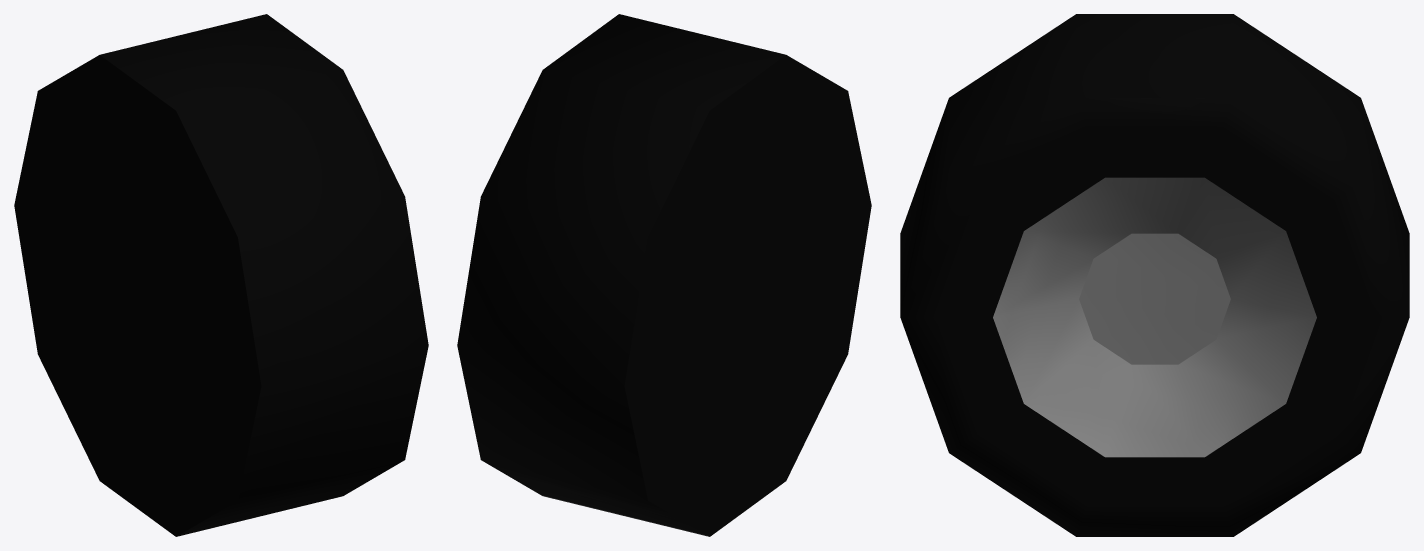
File: Whell_1.fbx
3 views of the same model, side by side, from view 1: azimuth 30°, elevation 25°; view 2: azimuth 150°, elevation 25°; view 3: azimuth 270°, elevation 25° (orthographic). The views are drawn at different scales.
Visible parts, largest first — view 1: Whell_1; view 2: Whell_1; view 3: Whell_1.
Part boxes in pixels (x1,y1,x2,y2): Whell_1: (14, 14, 428, 536); Whell_1: (457, 14, 871, 536); Whell_1: (900, 14, 1409, 536).
Bounding box in the file's own units: 29.43 × 71.68 × 75.37.
Materials: 1 (1 with a texture image).
